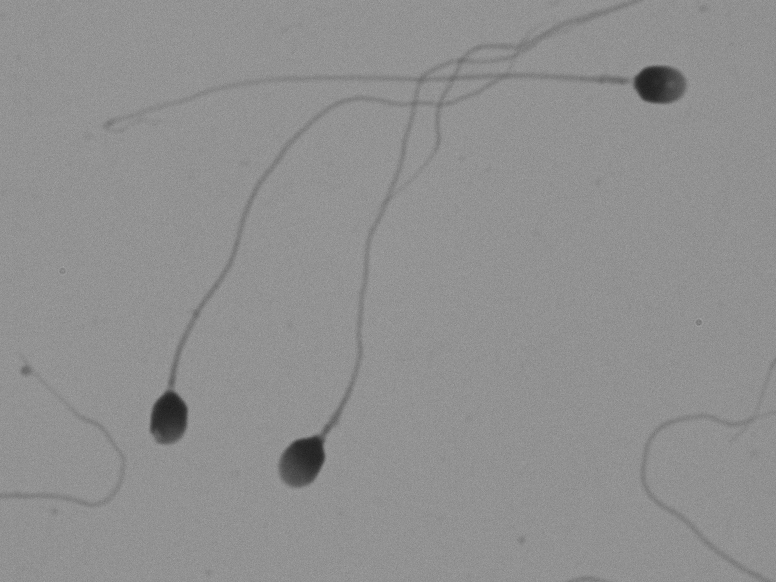Abnormal: (122, 103, 257, 477)
Normal: (115, 26, 704, 204), (266, 27, 436, 529)
